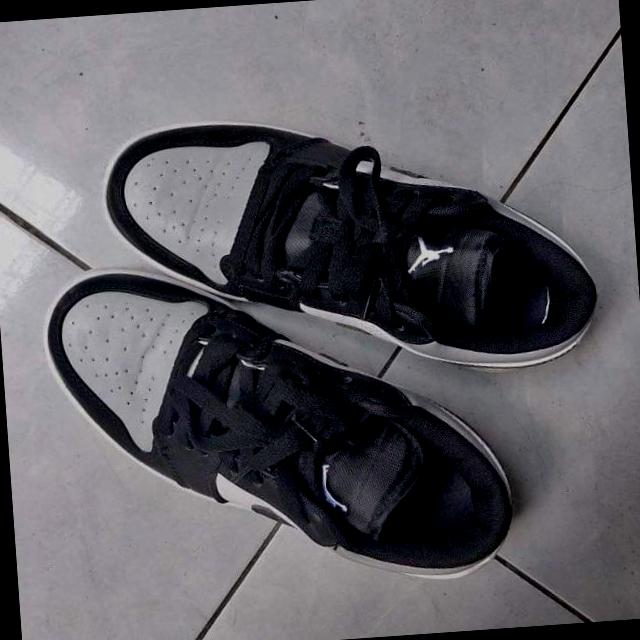nike_fake_jordan: (39, 244, 522, 608), (97, 92, 604, 397)
